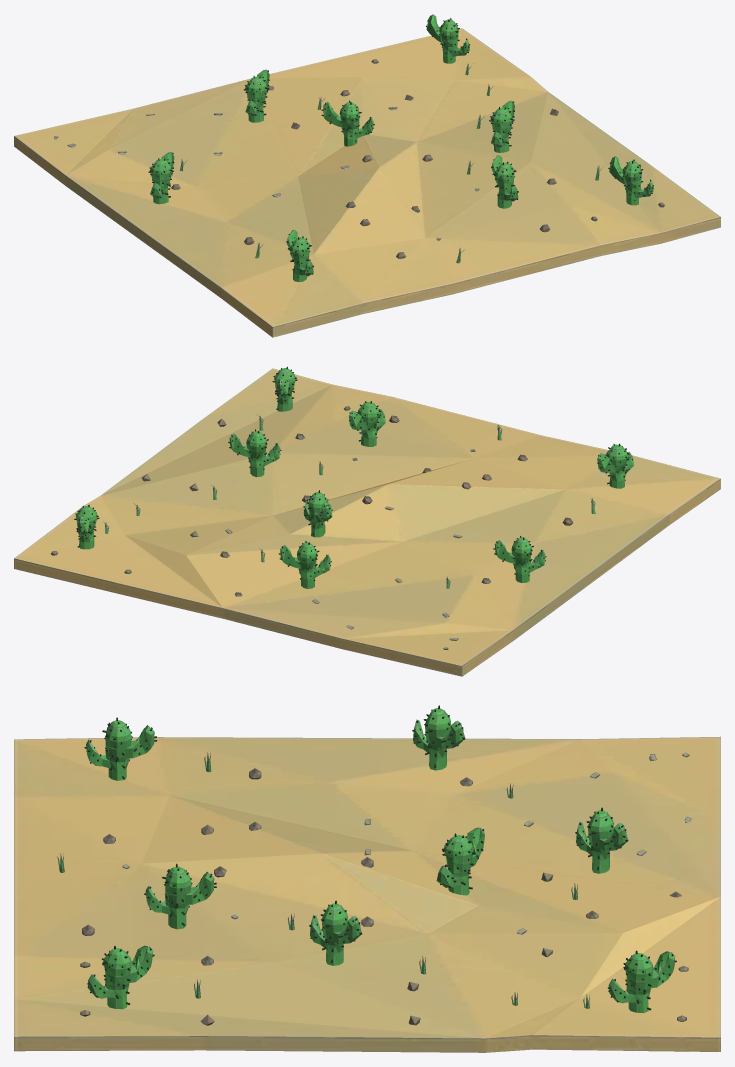
Rendered from Desert-transformed.glb.
3 views of the same model, one above another, from view 1: azimuth 30°, elevation 25°; view 2: azimuth 150°, elevation 25°; view 3: azimuth 270°, elevation 25° (orthographic). The views are drawn at different scales.
Parts seen in each view (by area): view 1: Node; view 2: Node; view 3: Node.
Part boxes in pixels (<box>): Node: <box>14,14,720,337</box>; Node: <box>14,366,720,676</box>; Node: <box>14,705,720,1052</box>.
Size of the model in its own units: 1000 by 132 by 1000.
1 material, 1 textured.
